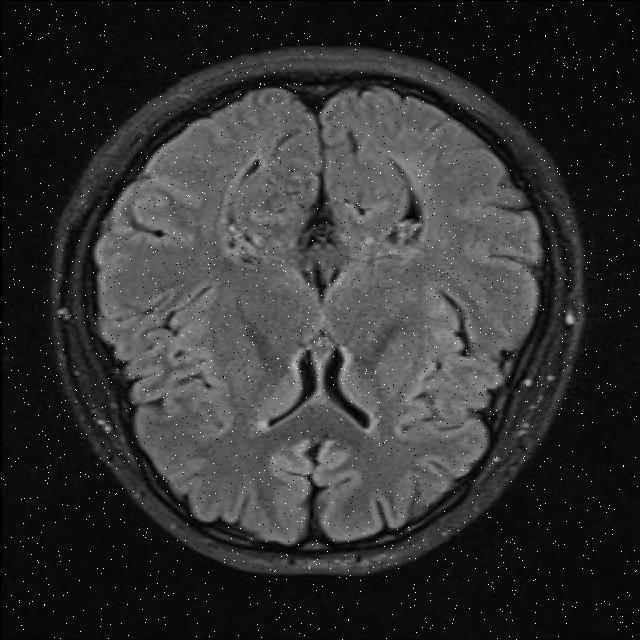No_Tumor: (54, 48, 584, 574)
